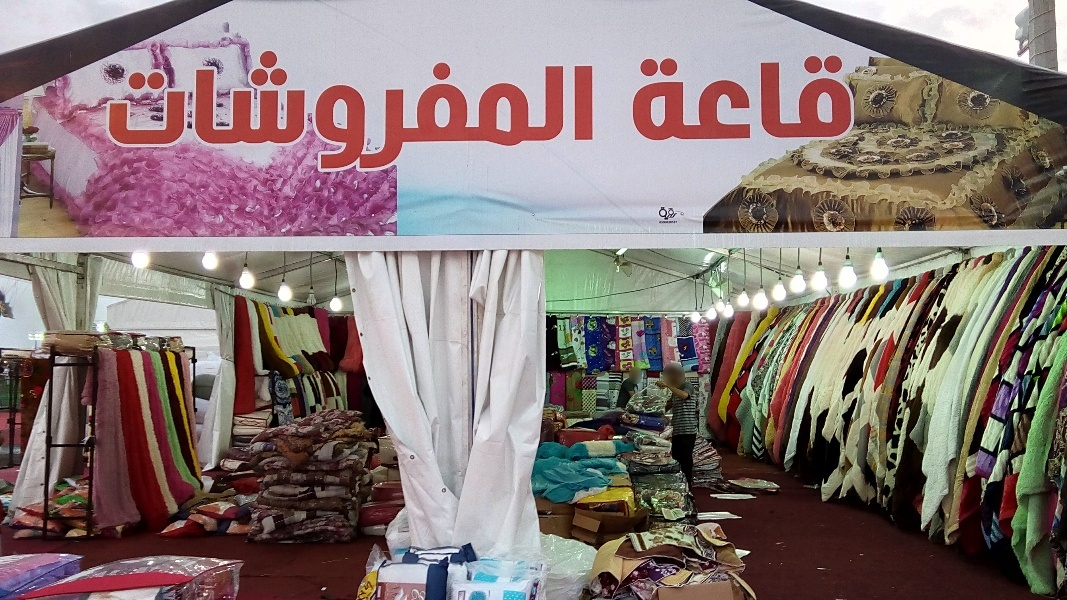text: (113, 50, 128, 174), (129, 50, 144, 174), (145, 50, 160, 174), (161, 50, 176, 174), (177, 50, 192, 174), (193, 50, 208, 174), (209, 50, 224, 174), (225, 50, 240, 174), (241, 50, 256, 174), (257, 50, 272, 174), (273, 50, 288, 174), (289, 50, 304, 174), (305, 50, 320, 174), (321, 50, 336, 174), (337, 50, 352, 174), (353, 50, 368, 174), (369, 50, 384, 174), (385, 50, 400, 174), (401, 50, 416, 174), (417, 50, 432, 174), (433, 50, 448, 174), (449, 50, 464, 174), (465, 50, 480, 174), (481, 50, 496, 174), (497, 50, 512, 174), (513, 50, 528, 174), (529, 50, 544, 174), (545, 50, 560, 174), (561, 50, 576, 174), (577, 50, 592, 174), (641, 55, 656, 142), (657, 55, 672, 142), (673, 55, 688, 142), (689, 55, 704, 142), (705, 55, 720, 142), (721, 55, 736, 142), (737, 55, 752, 142), (753, 55, 768, 142), (769, 55, 784, 142), (785, 55, 800, 142), (801, 55, 816, 142), (817, 55, 832, 142), (833, 55, 848, 142), (107, 50, 112, 174), (634, 55, 640, 142), (849, 55, 854, 142), (593, 50, 594, 174)
